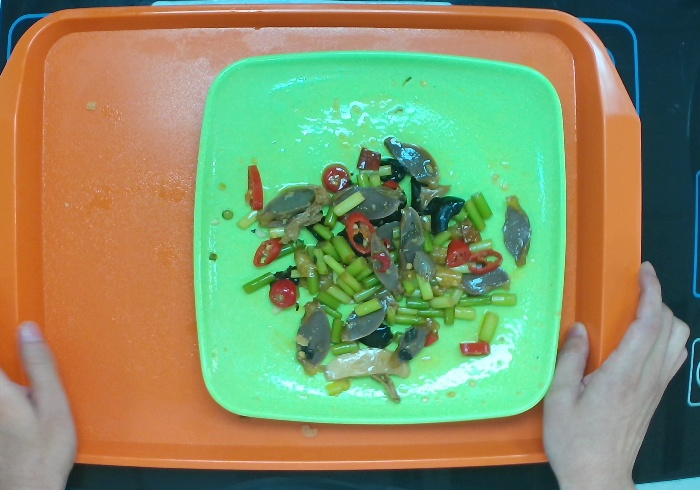ZNLD-Lv_Fang_Pan: (189, 49, 569, 425)
